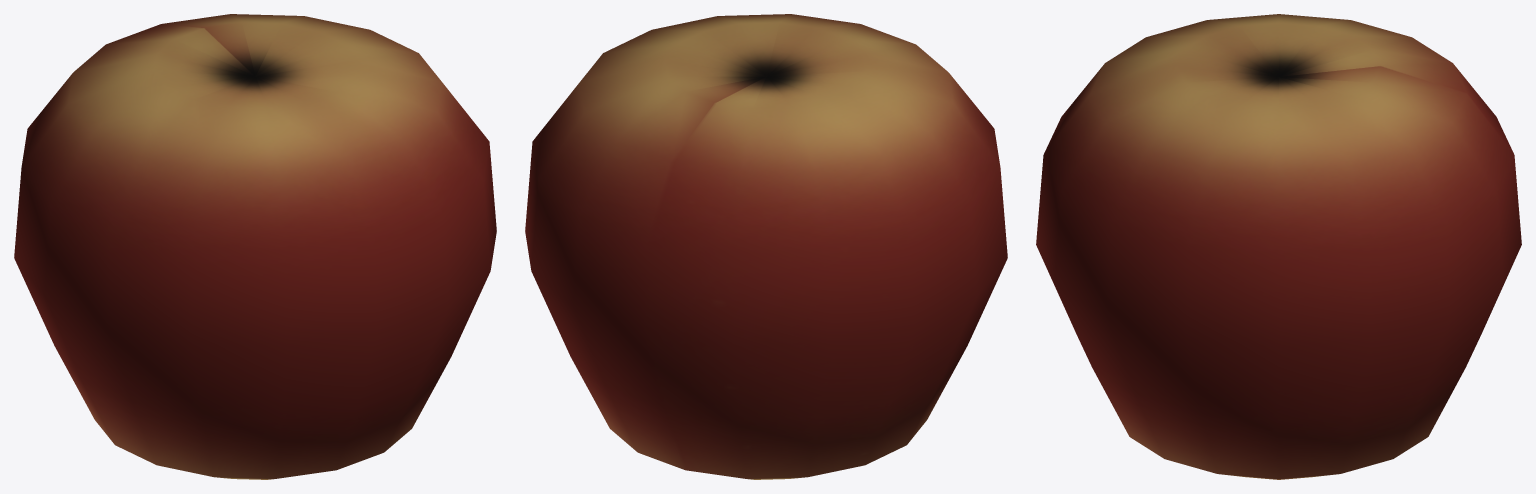
The model's file is mm_apple.FBX.
The picture shows the model from 3 angles, left to right: view 1: azimuth 30°, elevation 25°; view 2: azimuth 150°, elevation 25°; view 3: azimuth 270°, elevation 25°; orthographic projection.
Visible parts, largest first — view 1: Sphere001; view 2: Sphere001; view 3: Sphere001.
Part boxes in pixels (<box>): Sphere001: <box>14,14,496,479</box>; Sphere001: <box>525,14,1007,479</box>; Sphere001: <box>1036,14,1521,479</box>.
Size of the model in its own units: 18.75 by 16.05 by 18.75.
1 material, 1 textured.
